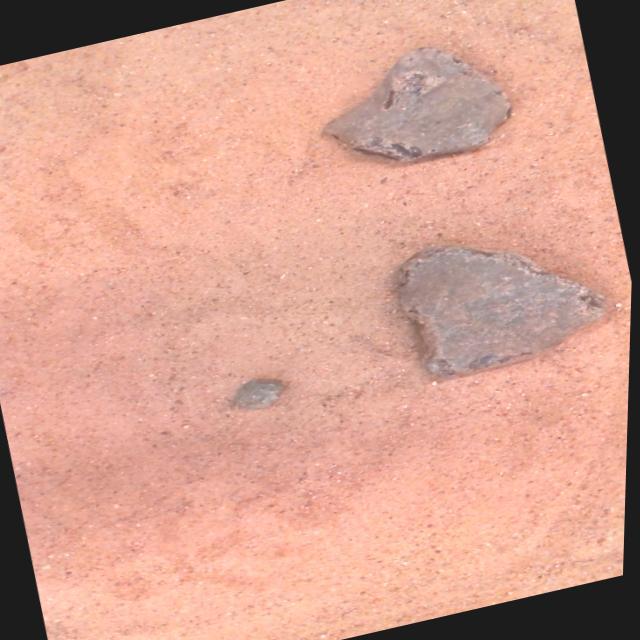rock: (401, 247, 607, 376), (325, 47, 510, 161), (234, 379, 286, 409)
